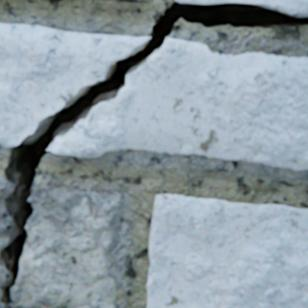brick: (147, 193, 307, 307), (175, 0, 307, 15), (119, 0, 142, 2)
broken_brick: (47, 38, 307, 169), (0, 23, 150, 146), (11, 186, 124, 307), (0, 177, 15, 256), (0, 259, 7, 286), (0, 302, 5, 307), (0, 288, 3, 296)
crack: (0, 1, 307, 306)
